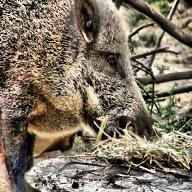boar: (0, 0, 191, 163)
